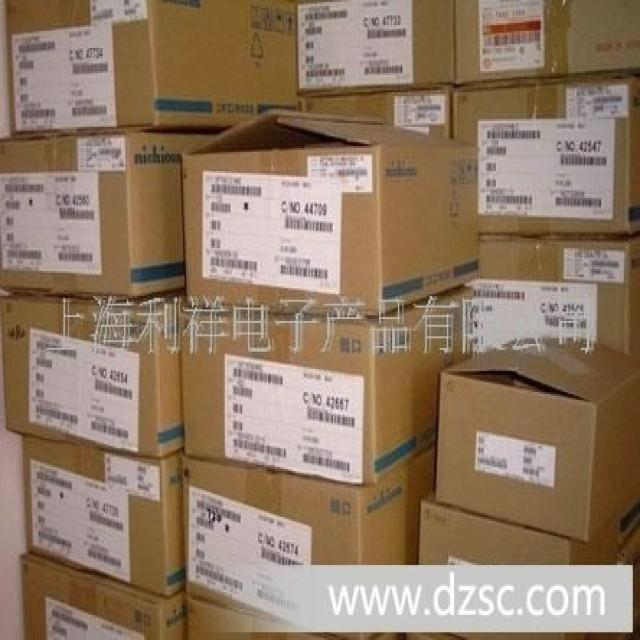box: (184, 108, 479, 316), (183, 282, 473, 484), (181, 443, 434, 638), (437, 339, 639, 543), (1, 128, 225, 303), (5, 1, 300, 133), (1, 290, 186, 457), (450, 75, 639, 238), (418, 489, 622, 638), (24, 436, 185, 597), (472, 227, 639, 361), (453, 2, 639, 88), (17, 549, 184, 638), (297, 3, 454, 92), (184, 592, 367, 636), (582, 511, 639, 638), (301, 91, 452, 135), (364, 598, 470, 638)
